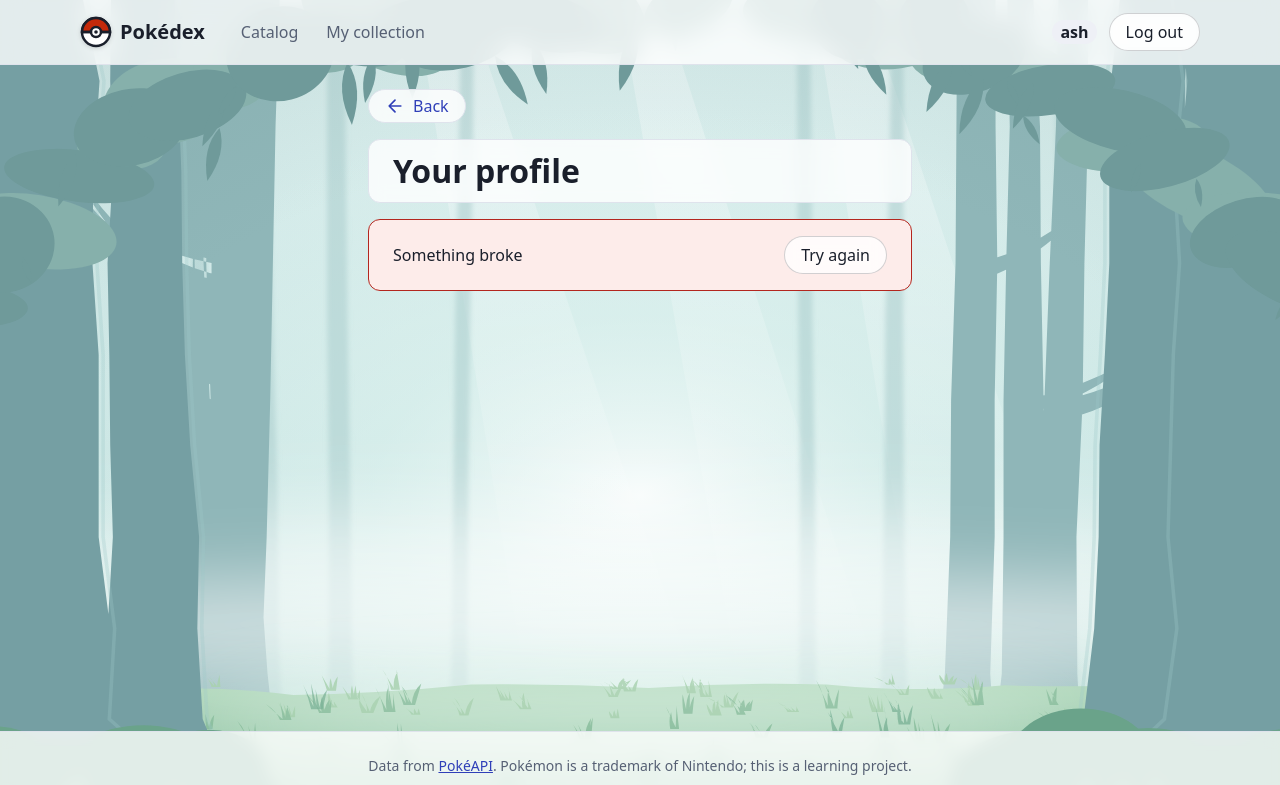
Test: ProfilePage › shows an error with a retry when the profile cannot be loaded
Check: the message shows "Something broke", box [393, 244, 522, 266]
Click the button "Try again" at coordinates (836, 255), box [784, 236, 887, 274]
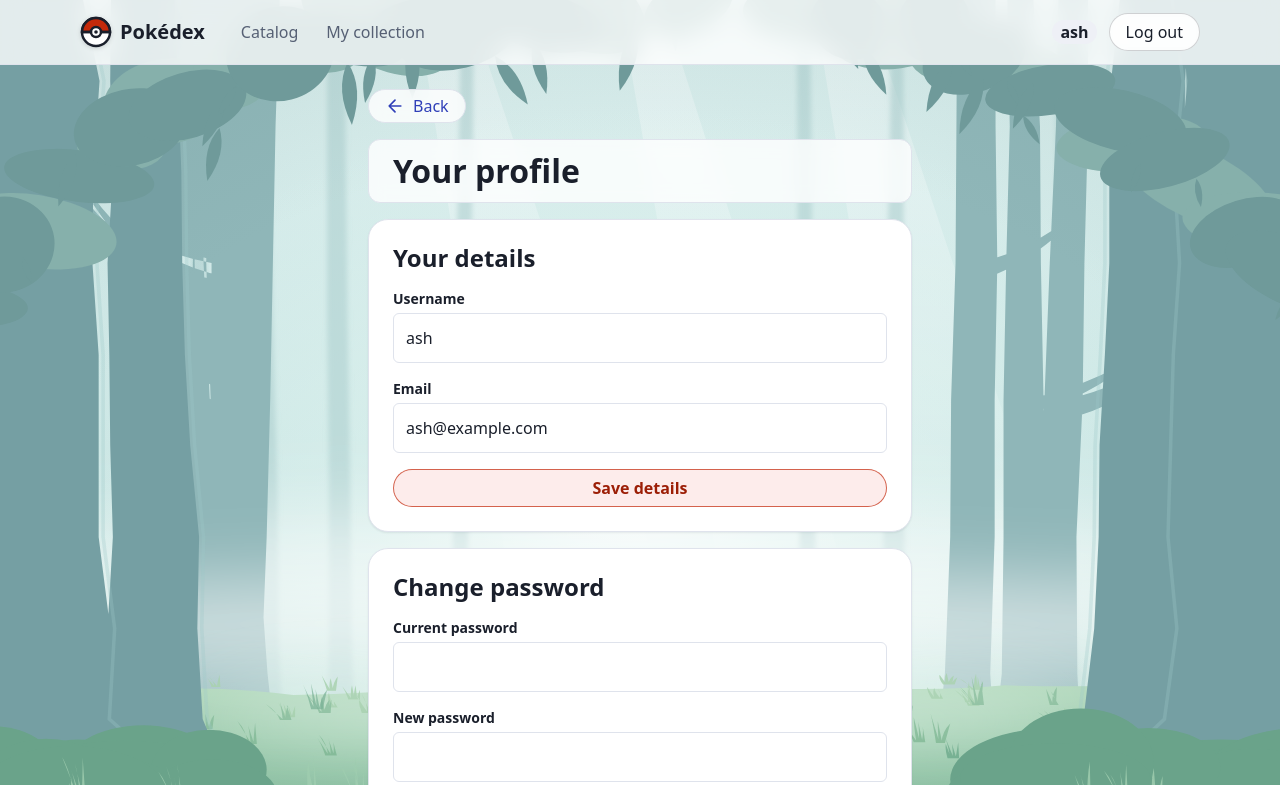
Check: the field labelled "Username" holds "ash", box [393, 313, 887, 363]
